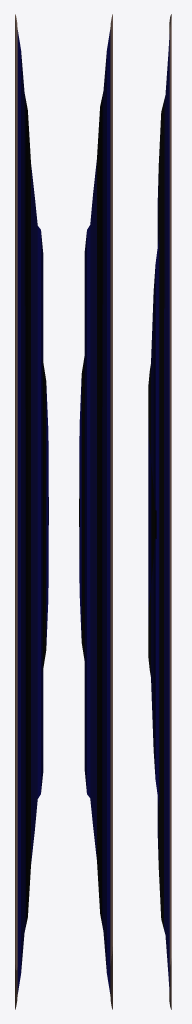
File: blue_flag_222x03.gltf
The picture shows the model from 3 angles, left to right: view 1: azimuth 30°, elevation 25°; view 2: azimuth 210°, elevation 25°; view 3: azimuth 270°, elevation 25°; orthographic projection.
Parts seen in each view (by area): view 1: blue_flag_222x03; view 2: blue_flag_222x03; view 3: blue_flag_222x03.
Part boxes in pixels (x1=…): blue_flag_222x03: x1=15, y1=14, x2=48, y2=1009; blue_flag_222x03: x1=79, y1=14, x2=112, y2=1009; blue_flag_222x03: x1=148, y1=14, x2=171, y2=1009.
Bounding box in the file's own units: 0.0558 × 1.97 × 0.042.
Materials: 1 (1 with a texture image).
